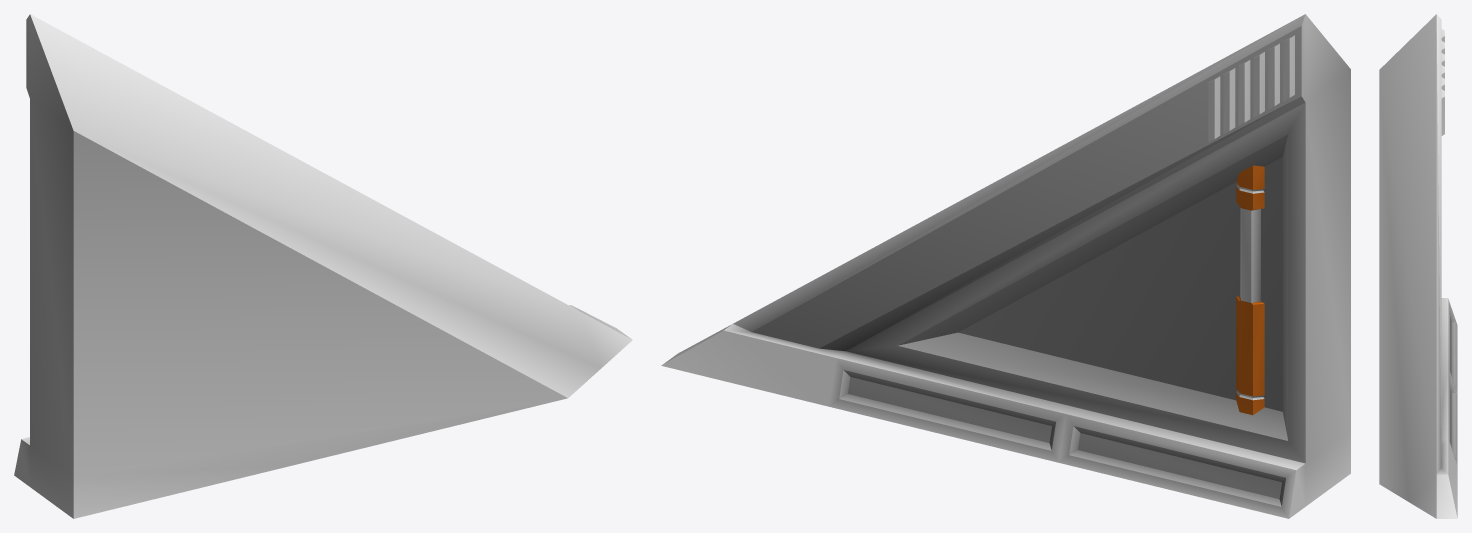
File: wallRamp_R.FBX
3 views of the same model, side by side, from view 1: azimuth 30°, elevation 25°; view 2: azimuth 150°, elevation 25°; view 3: azimuth 270°, elevation 25° (orthographic). The views are drawn at different scales.
Parts seen in each view (by area): view 1: wallRamp_R; view 2: wallRamp_R; view 3: wallRamp_R.
Boxes of the visible parts, bbox=[...] form: wallRamp_R: bbox=[14, 14, 632, 518]; wallRamp_R: bbox=[661, 14, 1350, 518]; wallRamp_R: bbox=[1379, 14, 1457, 518].
Bounding box in the file's own units: 2 × 1.5 × 0.3418.
